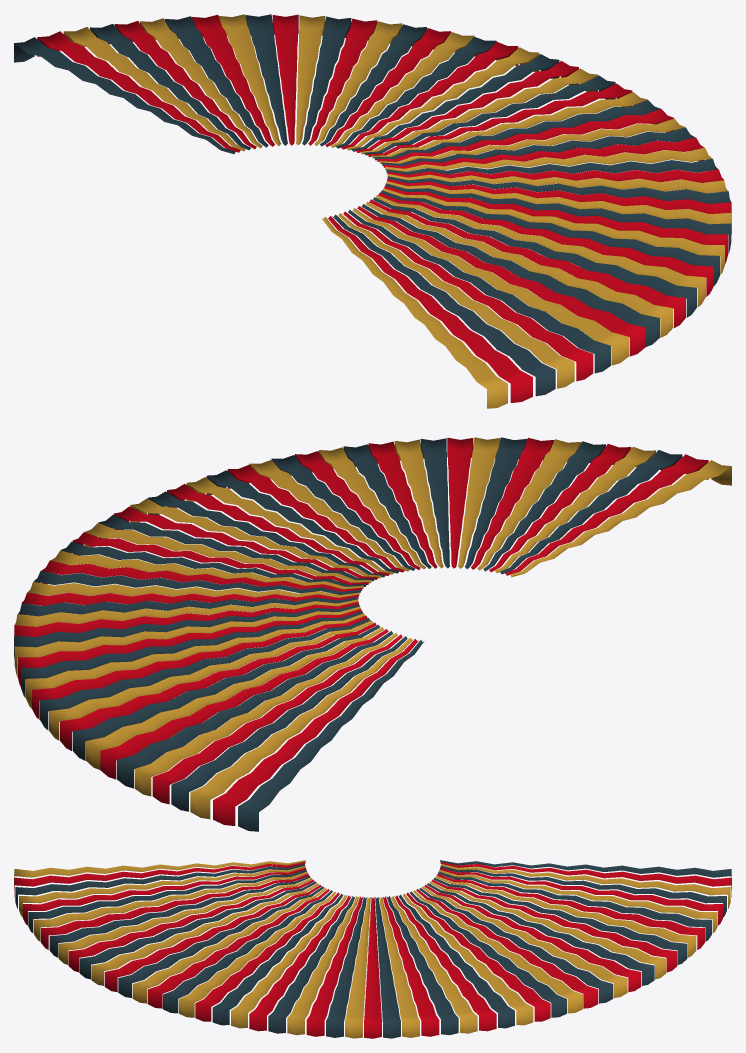
Rendered from Velum.fbx.
The picture shows the model from 3 angles, top to bottom: view 1: azimuth 30°, elevation 25°; view 2: azimuth 150°, elevation 25°; view 3: azimuth 270°, elevation 25°; orthographic projection. The views are drawn at different scales.
Parts seen in each view (by area): view 1: Velum.120; view 2: Velum.120; view 3: Velum.120.
Boxes of the visible parts, <box> form: Velum.120: <box>14,14,731,408</box>; Velum.120: <box>14,437,731,831</box>; Velum.120: <box>14,860,731,1038</box>.
Size of the model in its own units: 5237 by 559 by 10279.
